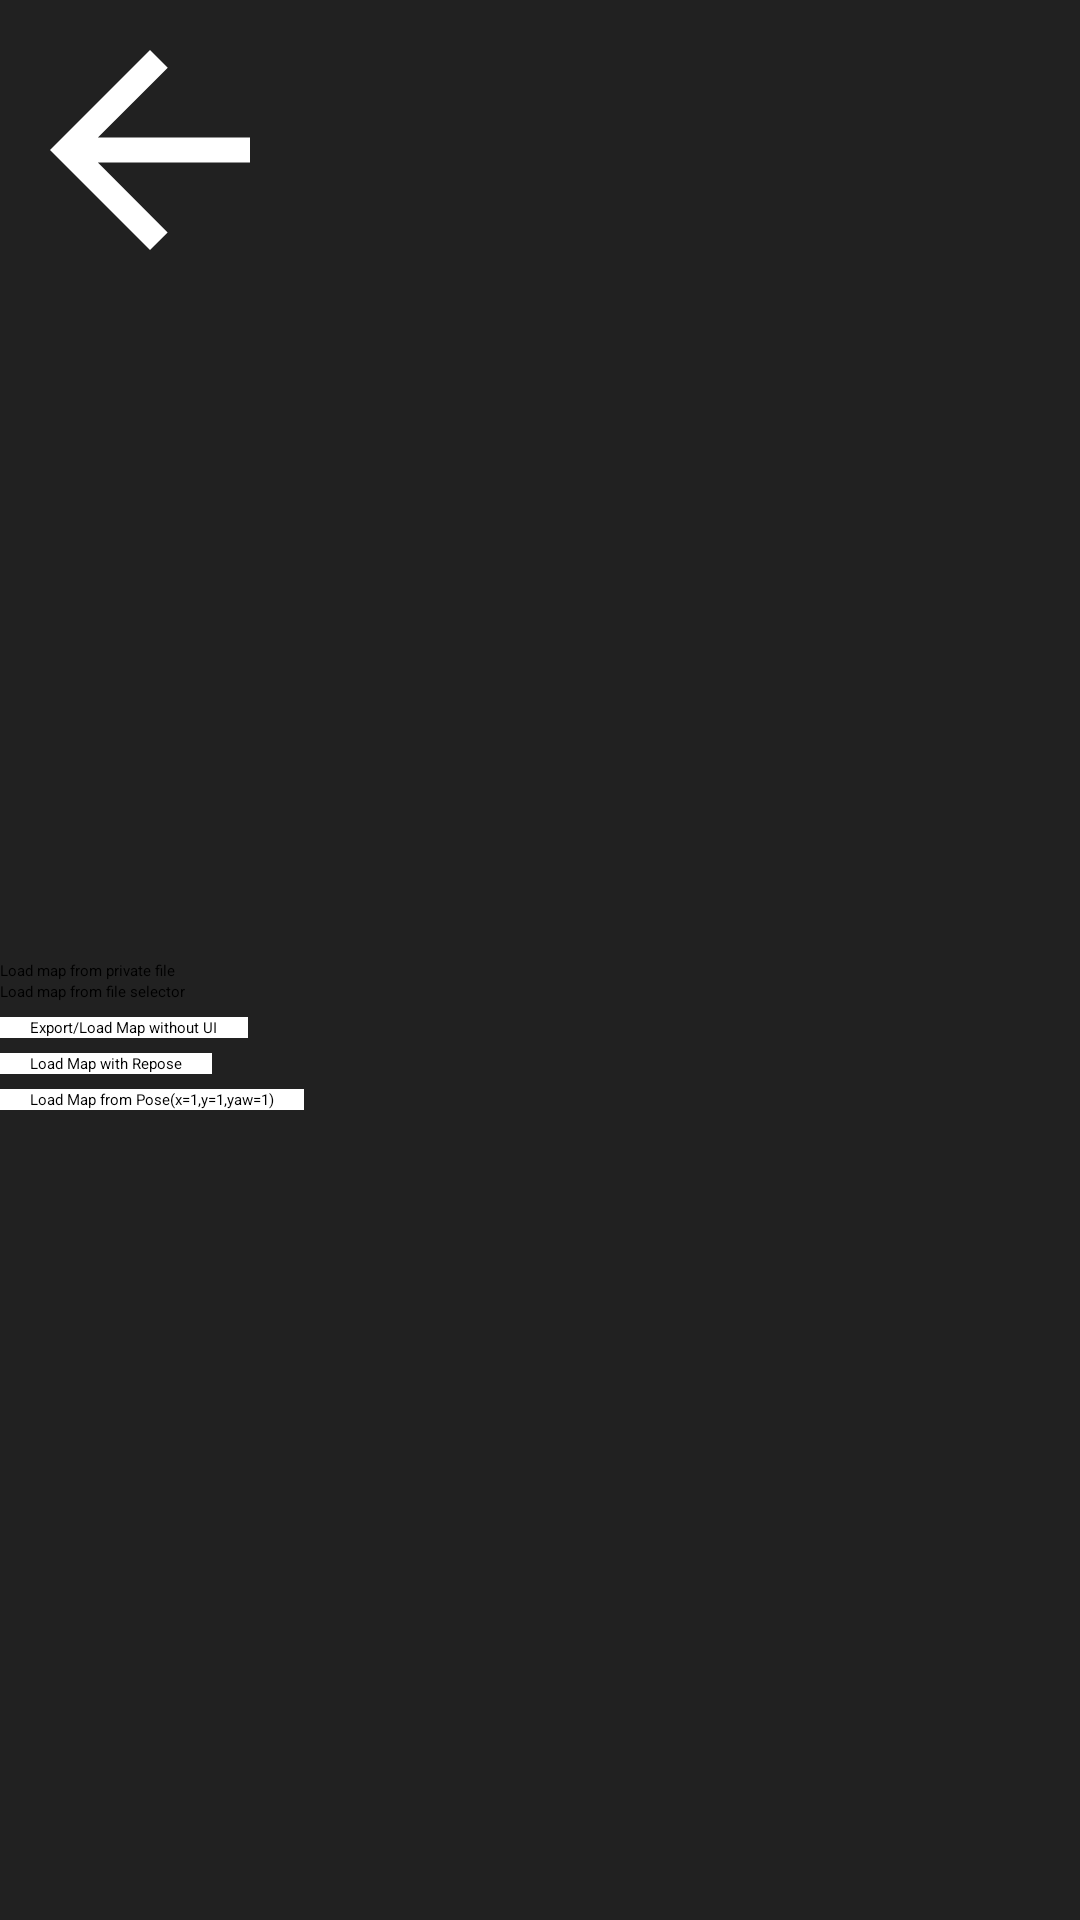

Where icons sit on this 1080×1920 app screen, as (x1, y1, x2, y2):
back: (50, 50, 250, 250)
